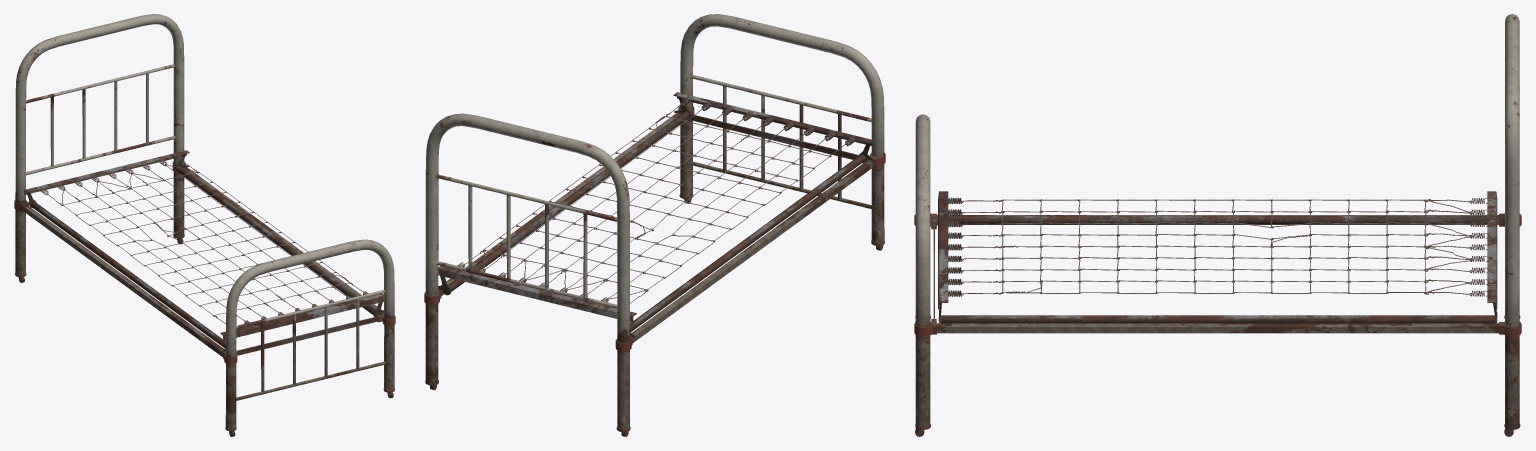
File: decor_bed.glb
3 renders of one model, left to right at view 1: azimuth 30°, elevation 25°; view 2: azimuth 150°, elevation 25°; view 3: azimuth 270°, elevation 25°, orthographic. The views are drawn at different scales.
Parts seen in each view (by area): view 1: old_bed_frame; view 2: old_bed_frame; view 3: old_bed_frame.
Part boxes in pixels (bbox=[...]): old_bed_frame: bbox=[14, 14, 395, 436]; old_bed_frame: bbox=[424, 14, 885, 436]; old_bed_frame: bbox=[914, 14, 1521, 436].
Bounding box in the file's own units: 0.9047 × 1.2 × 2.
Materials: 1 (1 with a texture image).
